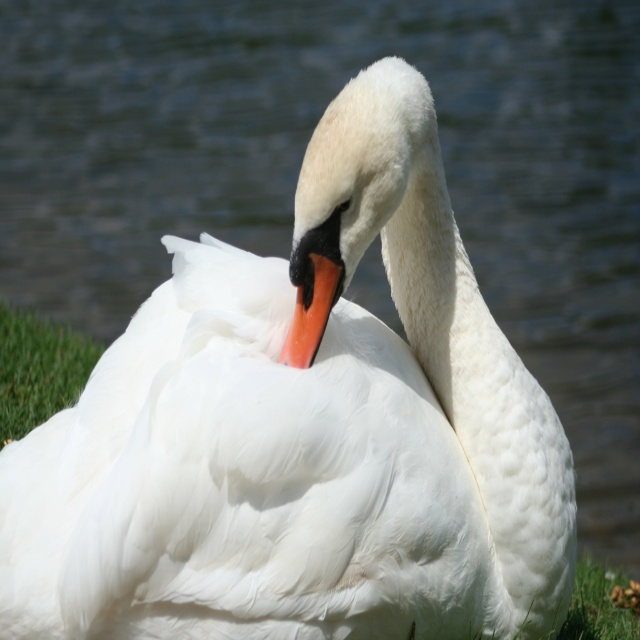Duck: (0, 55, 576, 639)
